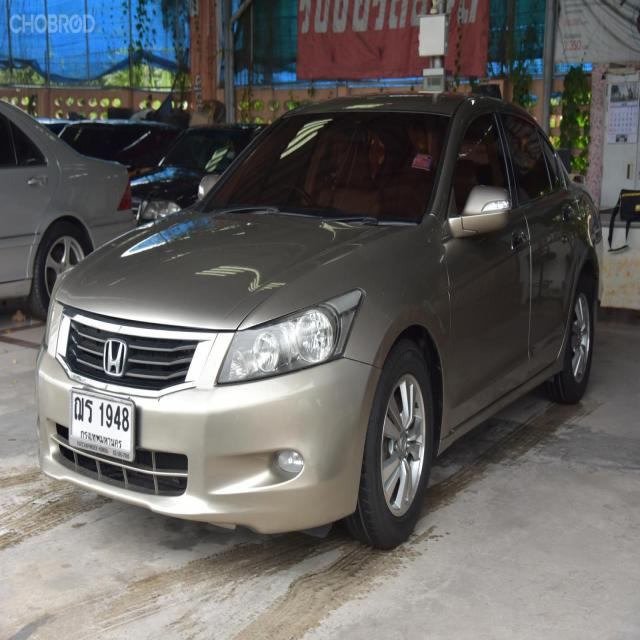license_plate: (67, 385, 136, 466)
